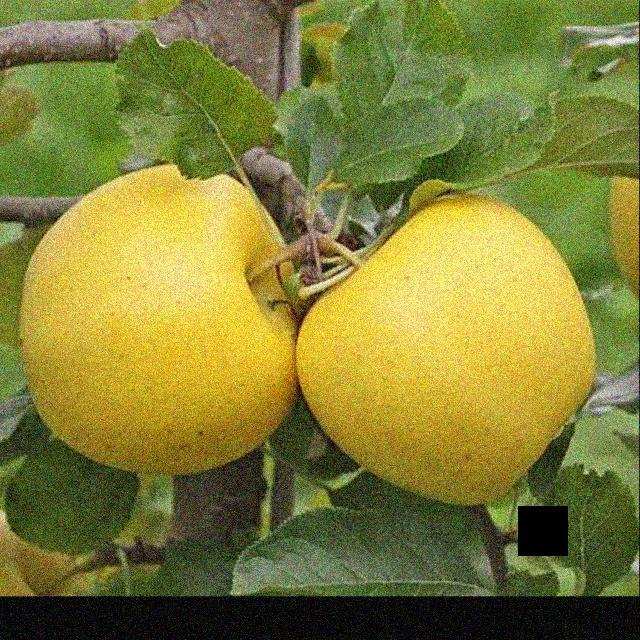green apple: (16, 164, 301, 494), (303, 186, 598, 503)
